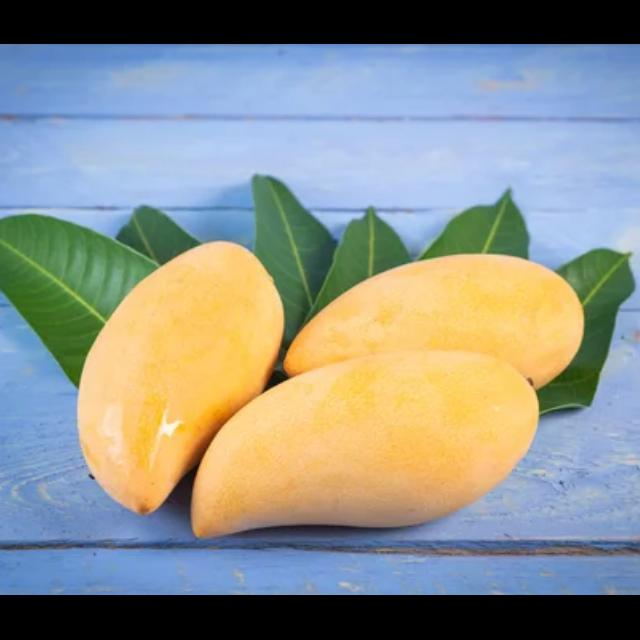mango: (191, 347, 543, 541), (77, 240, 285, 511), (283, 255, 586, 394)
